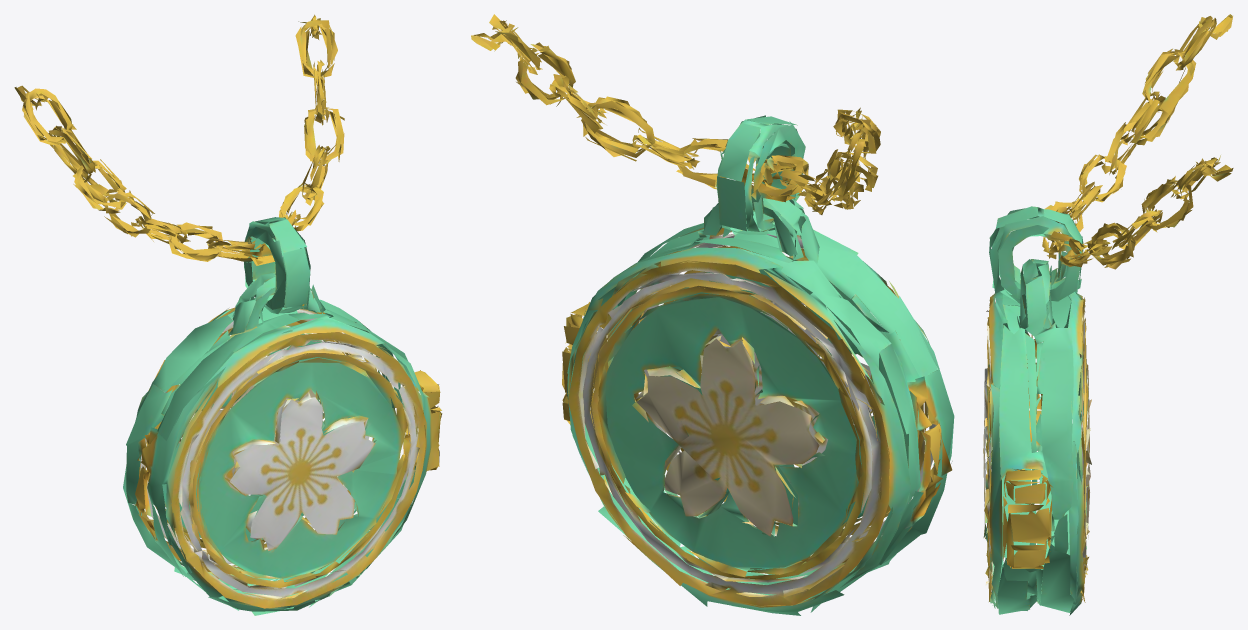
The model's file is gear_treasurer_necklace.glb.
The picture shows the model from 3 angles, left to right: view 1: azimuth 30°, elevation 25°; view 2: azimuth 150°, elevation 25°; view 3: azimuth 270°, elevation 25°; orthographic projection. The views are drawn at different scales.
Visible parts, largest first — view 1: gear_treasurer_necklace; view 2: gear_treasurer_necklace; view 3: gear_treasurer_necklace.
Part boxes in pixels (x1,y1,x2,y2): gear_treasurer_necklace: [14, 14, 442, 615]; gear_treasurer_necklace: [471, 14, 954, 615]; gear_treasurer_necklace: [983, 14, 1233, 615].
Size of the model in its own units: 0.3546 by 0.508 by 0.2266.
Materials: 1 (1 with a texture image).
